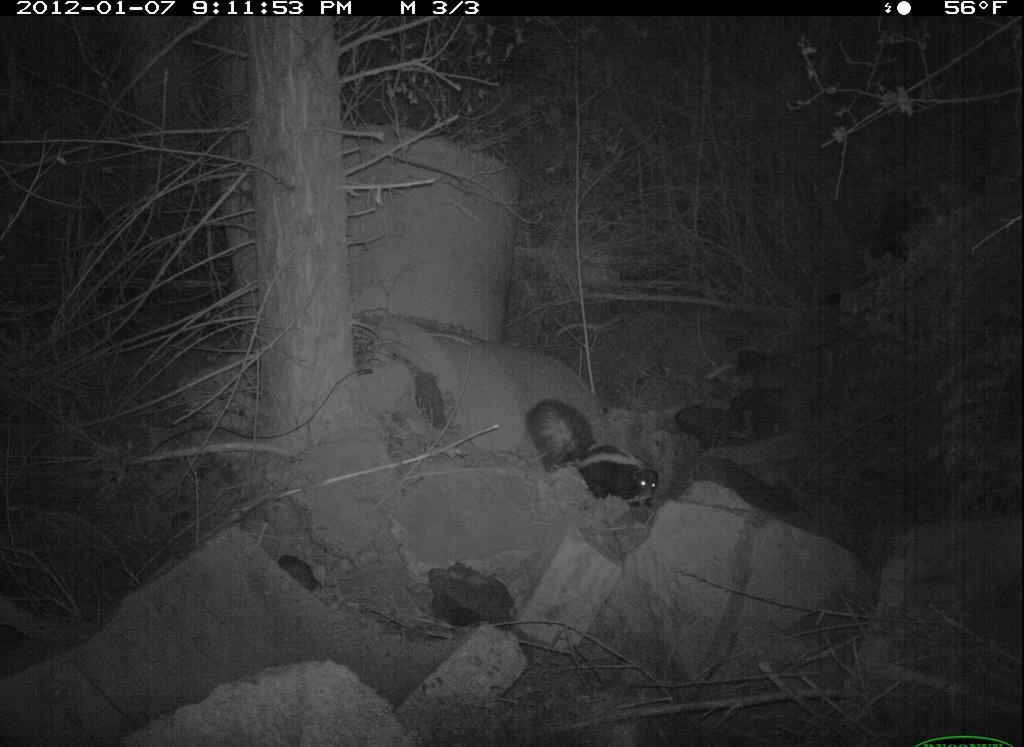skunk: (527, 401, 671, 516)
